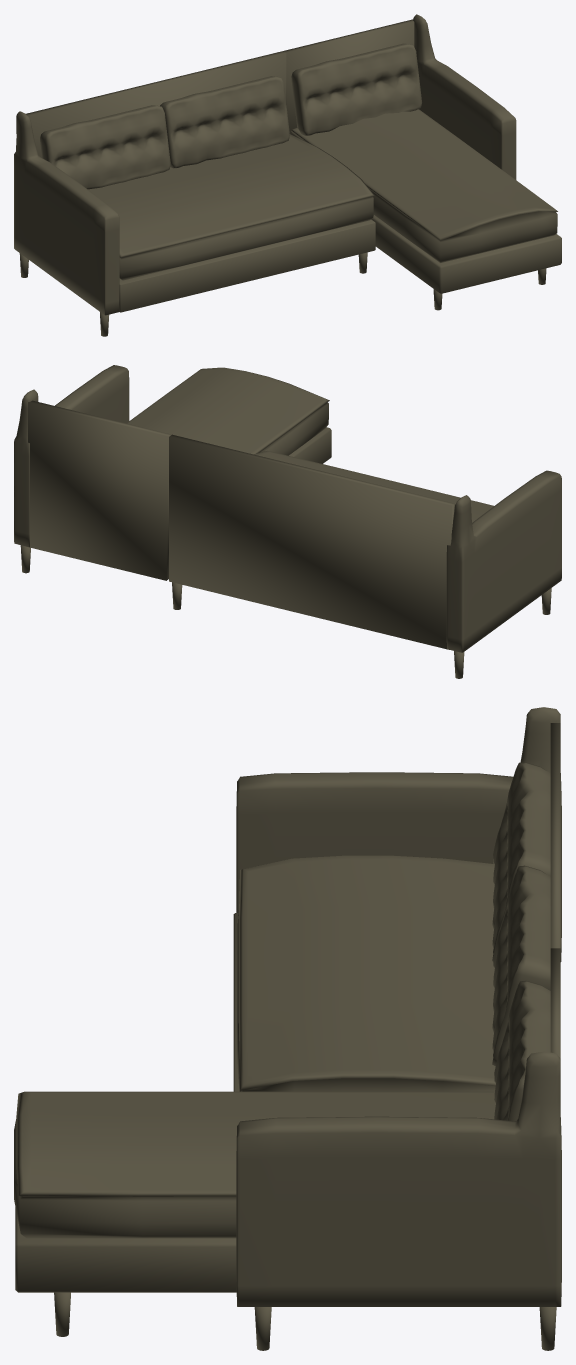
Rendered from we-crosby2piece-greenbaked.glb.
3 views of the same model, one above another, from view 1: azimuth 30°, elevation 25°; view 2: azimuth 150°, elevation 25°; view 3: azimuth 270°, elevation 25° (orthographic). The views are drawn at different scales.
Parts seen in each view (by area): view 1: we-crosby2piece-greenbaked; view 2: we-crosby2piece-greenbaked; view 3: we-crosby2piece-greenbaked.
Part boxes in pixels (x1=…): we-crosby2piece-greenbaked: x1=14, y1=14, x2=561, y2=336; we-crosby2piece-greenbaked: x1=14, y1=365, x2=561, y2=678; we-crosby2piece-greenbaked: x1=14, y1=707, x2=561, y2=1350.
Bounding box in the file's own units: 237 × 90.75 × 153.
